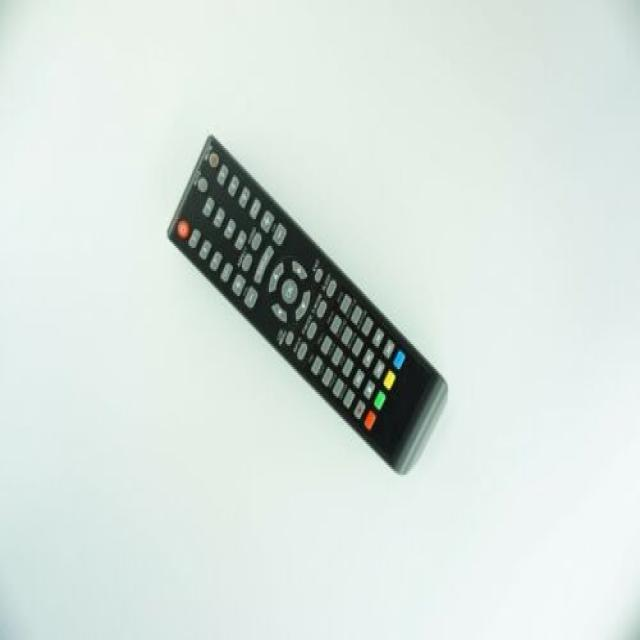remote: (168, 135, 445, 477)
